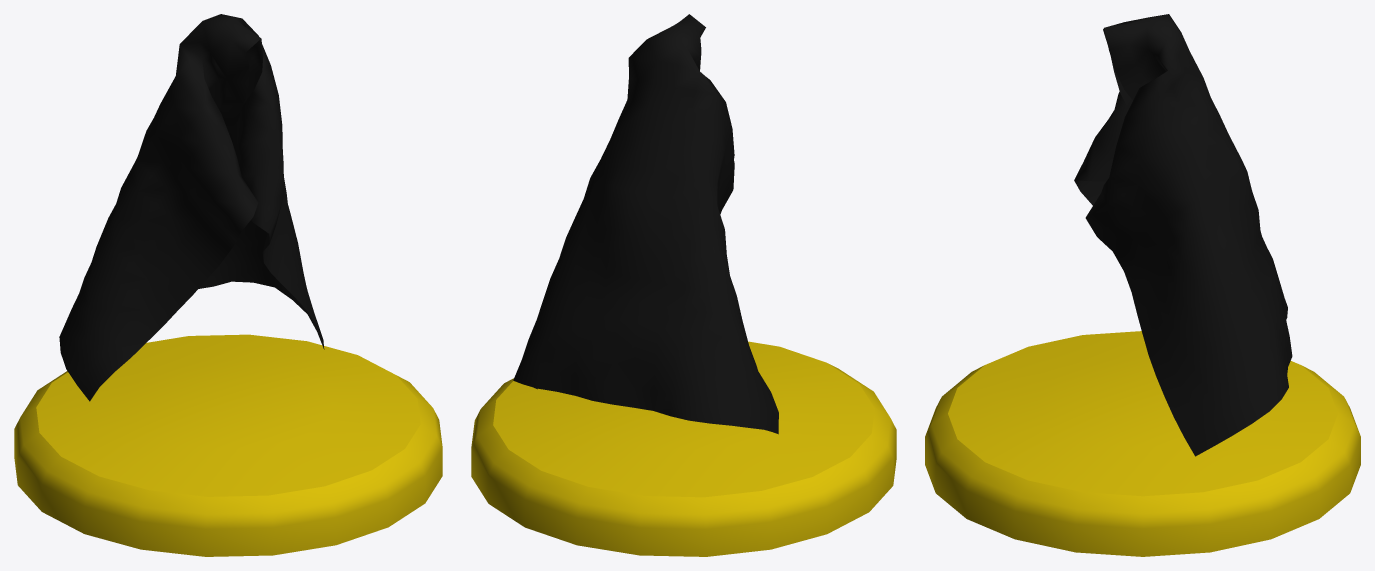
Rendered from wraith-hobble.fbx.
The picture shows the model from 3 angles, left to right: view 1: azimuth 30°, elevation 25°; view 2: azimuth 150°, elevation 25°; view 3: azimuth 270°, elevation 25°; orthographic projection.
Parts seen in each view (by area): view 1: pedestal_geo, wraith_geo; view 2: pedestal_geo, wraith_geo; view 3: pedestal_geo, wraith_geo.
Boxes of the visible parts, x1=… form: pedestal_geo: x1=14, y1=334, x2=442, y2=556; wraith_geo: x1=59, y1=14, x2=324, y2=401; pedestal_geo: x1=471, y1=341, x2=896, y2=556; wraith_geo: x1=513, y1=14, x2=778, y2=434; pedestal_geo: x1=925, y1=331, x2=1360, y2=556; wraith_geo: x1=1074, y1=14, x2=1292, y2=456.
Size of the model in its own units: 7.14 by 8.13 by 7.14.
